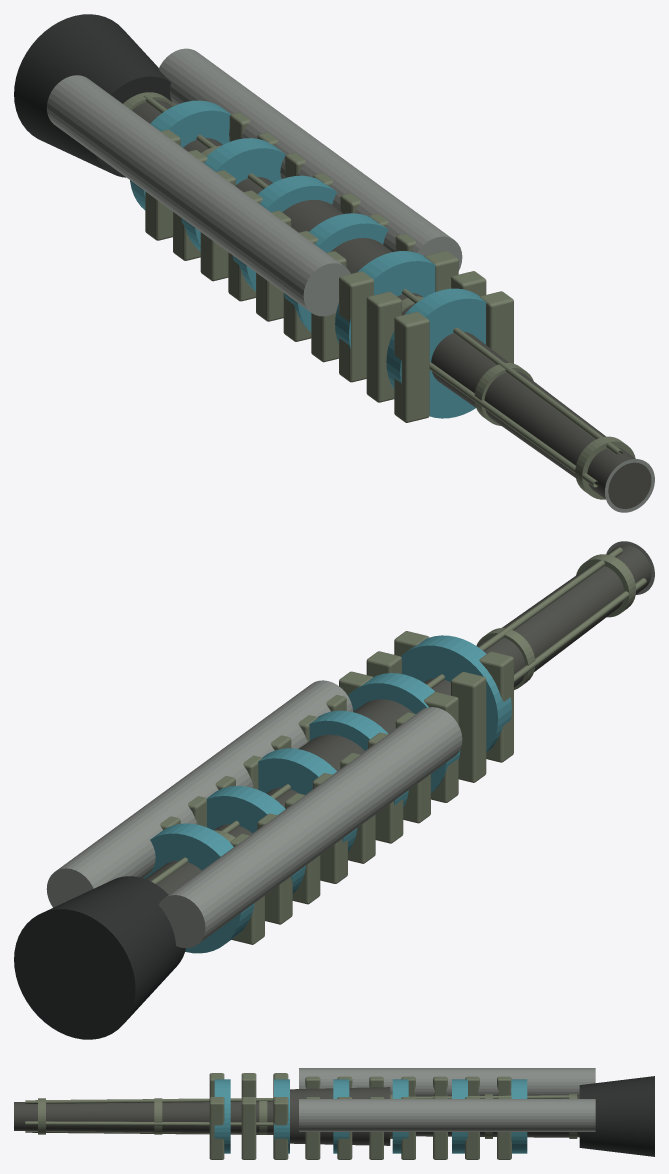
The model's file is barrel_2.glb.
3 renders of one model, top to bottom at view 1: azimuth 30°, elevation 25°; view 2: azimuth 150°, elevation 25°; view 3: azimuth 270°, elevation 25°, orthographic. The views are drawn at different scales.
Visible parts, largest first — view 1: barrel_2.001; view 2: barrel_2.001; view 3: barrel_2.001.
Boxes of the visible parts, x1,y1,x2,y2 form: barrel_2.001: (14,14,654,512); barrel_2.001: (14,541,654,1039); barrel_2.001: (14,1068,654,1159).
Bounding box in the file's own units: 0.5568 × 0.4263 × 3.37.
